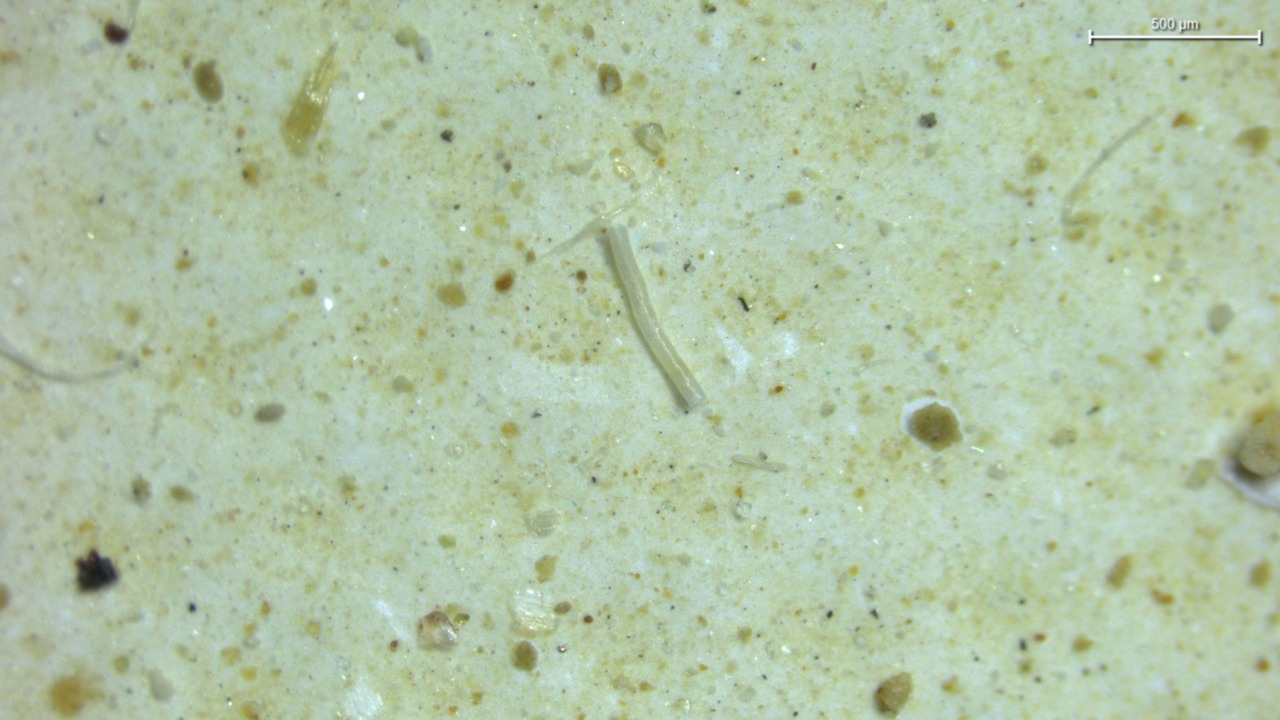microplastic_fragment: (280, 43, 336, 156)
